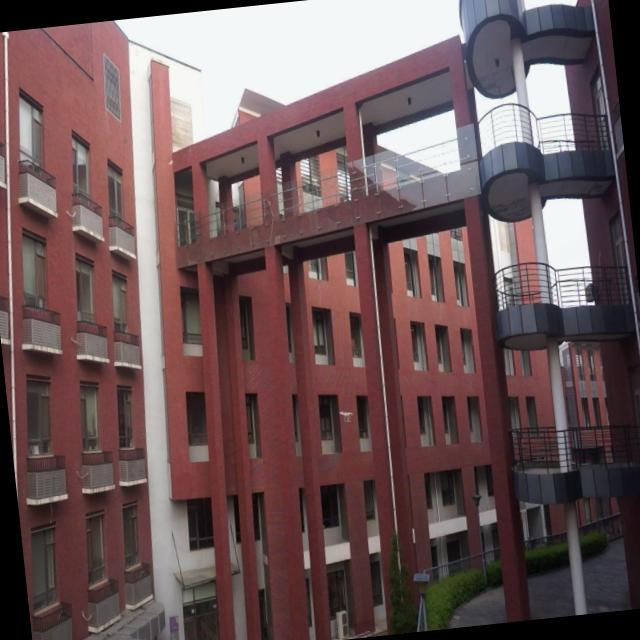drone: (336, 405, 355, 428)
